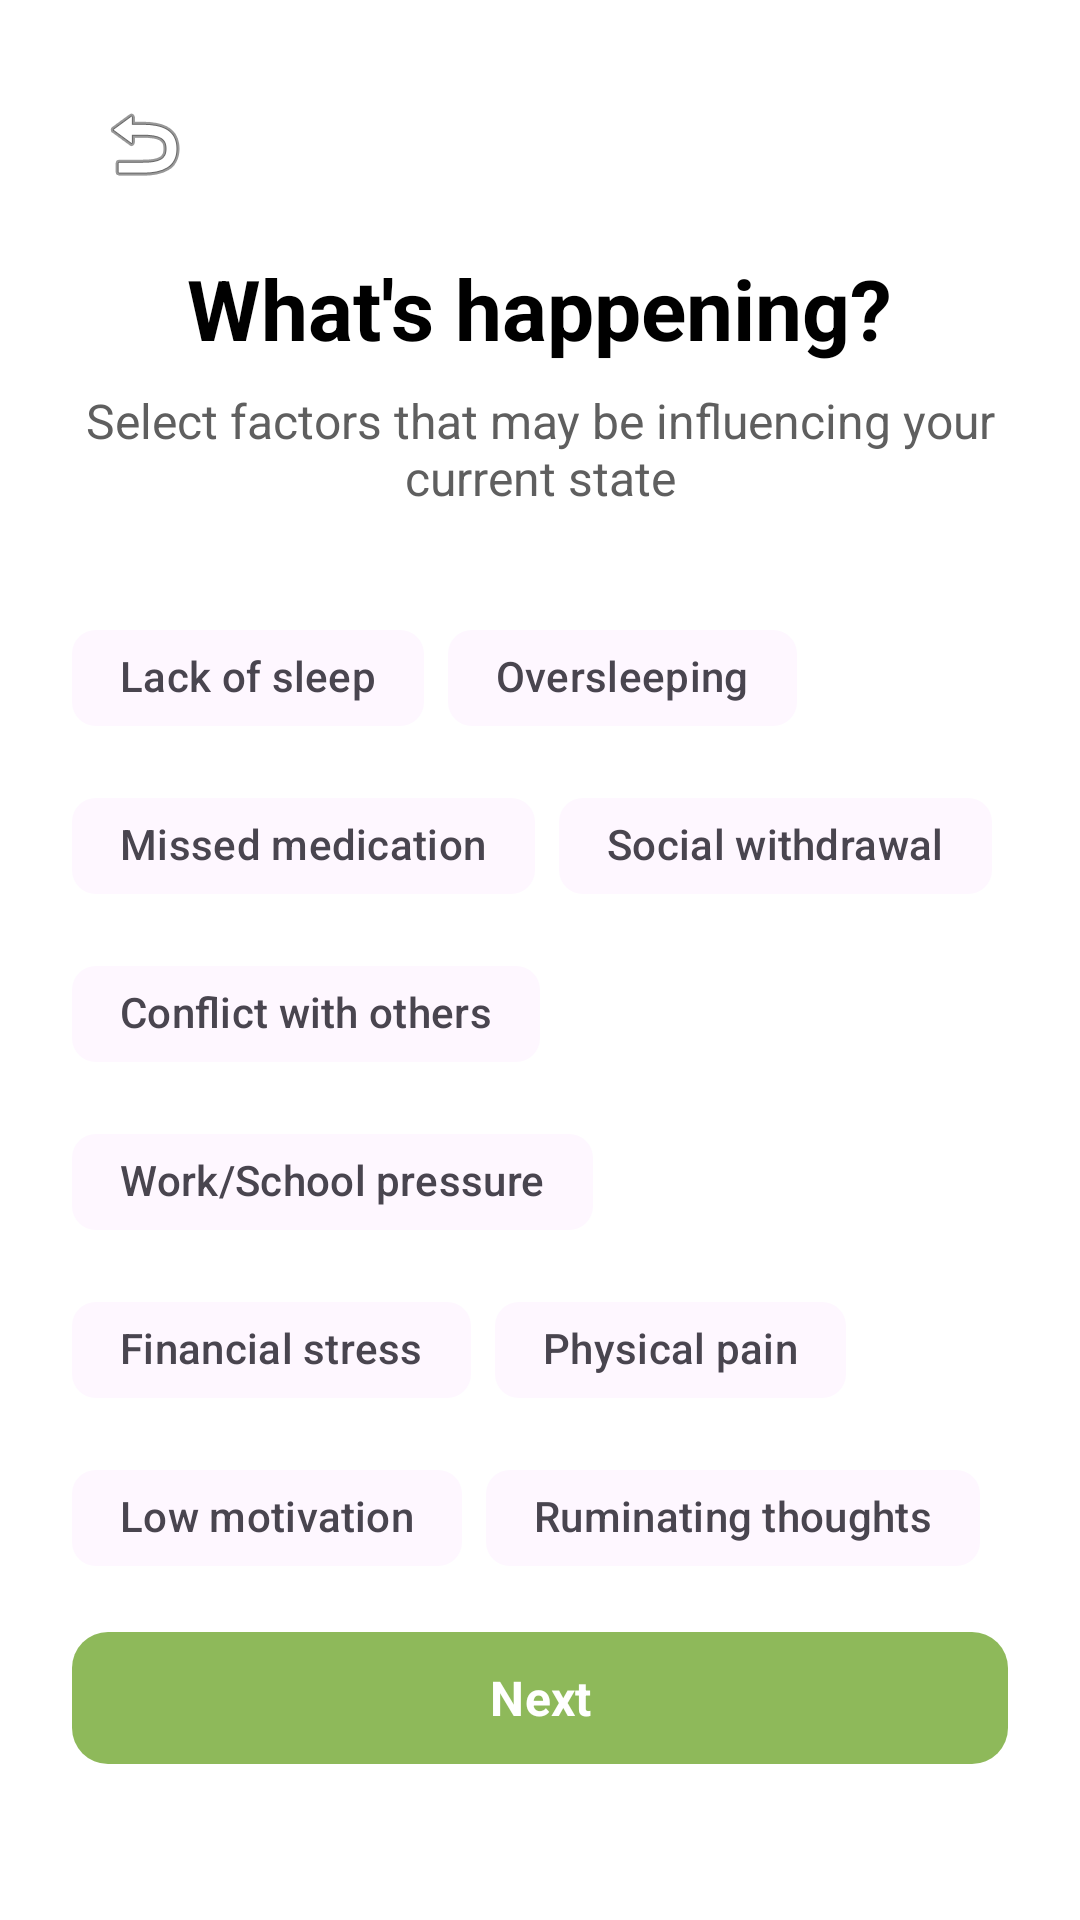

Icons on this 1080 x 1920 Android screen, each with the point to tap as [x,y]:
Back: [145,144]
